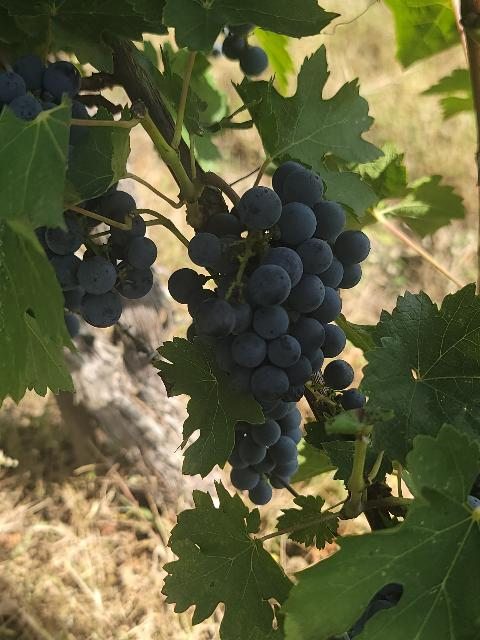grapes: (169, 161, 370, 504)
